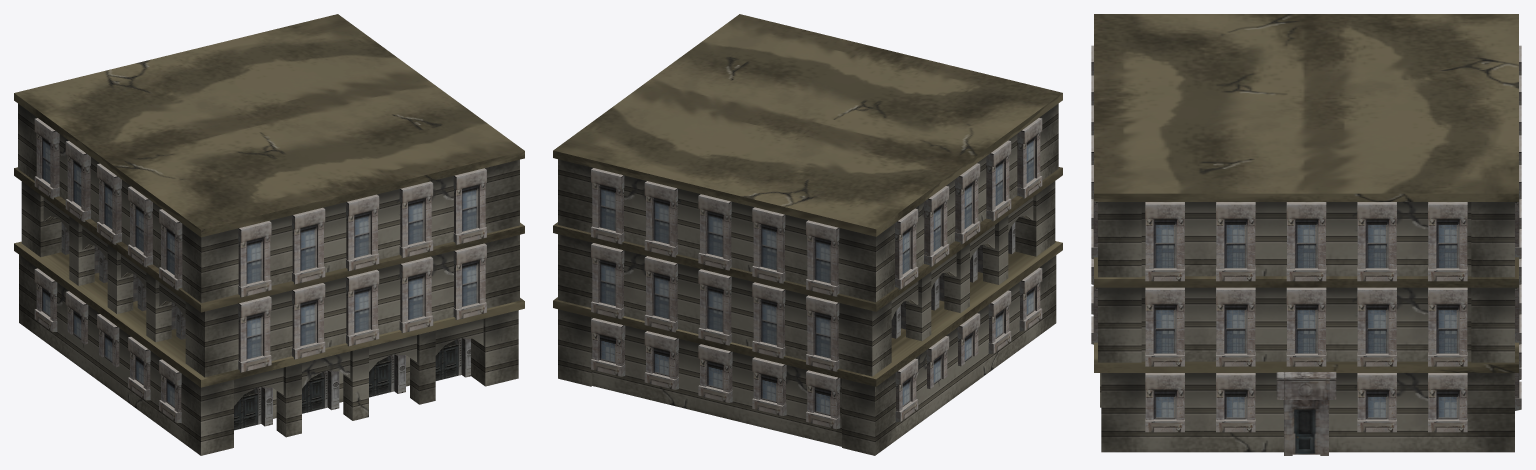
Rendered from Building03_3.FBX.
3 views of the same model, side by side, from view 1: azimuth 30°, elevation 25°; view 2: azimuth 150°, elevation 25°; view 3: azimuth 270°, elevation 25° (orthographic). The views are drawn at different scales.
Visible parts, largest first — view 1: Building3; view 2: Building3; view 3: Building3.
Part boxes in pixels (box(x1,y1,x2,y2)): Building3: box(14, 14, 524, 455); Building3: box(553, 14, 1062, 455); Building3: box(1091, 14, 1521, 455).
Size of the model in its own units: 9.41 by 6.14 by 9.13.
